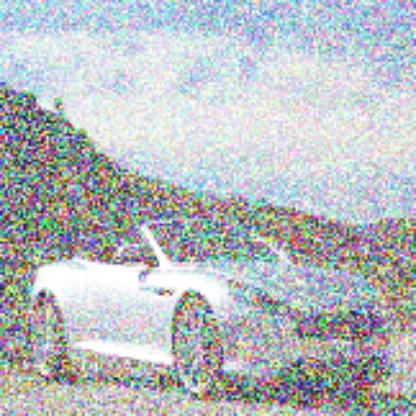Vehicle: (26, 216, 398, 405)
